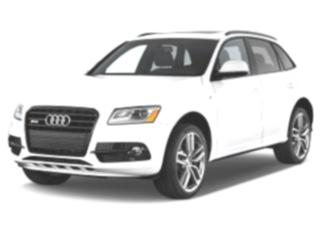Audi: (40, 112, 75, 129)
